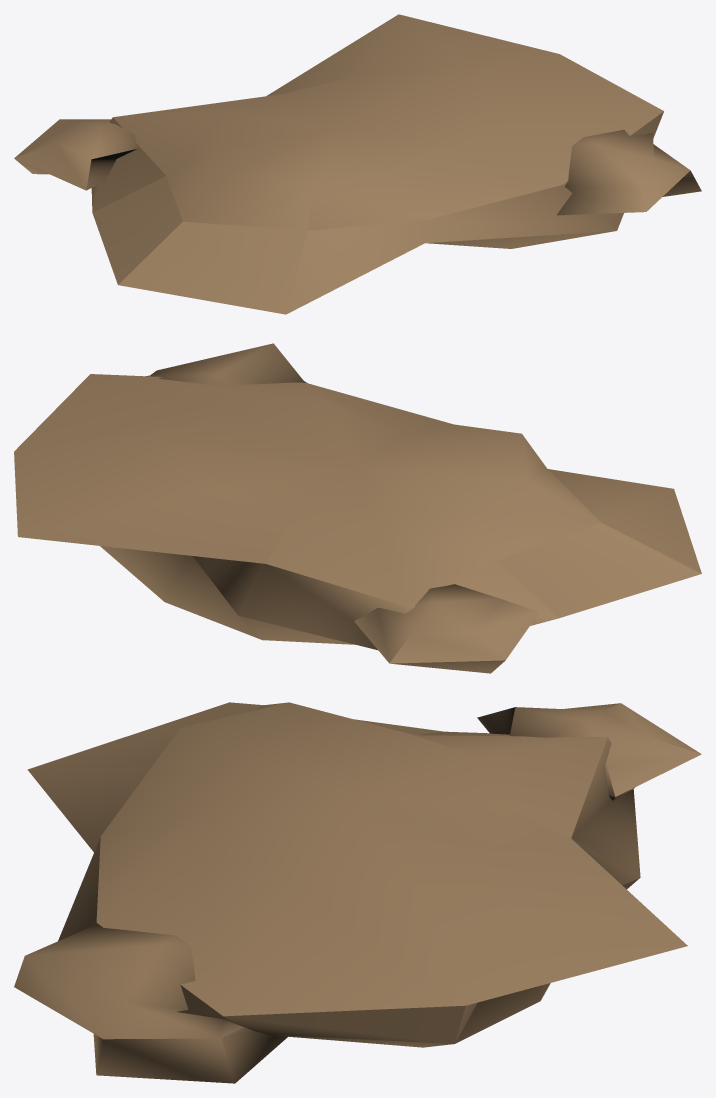
The model's file is sawdust_pile.glb.
3 views of the same model, one above another, from view 1: azimuth 30°, elevation 25°; view 2: azimuth 150°, elevation 25°; view 3: azimuth 270°, elevation 25° (orthographic). The views are drawn at different scales.
Parts seen in each view (by area): view 1: sawdust_pile; view 2: sawdust_pile; view 3: sawdust_pile.
Part boxes in pixels (x1,y1,x2,y2): sawdust_pile: (14, 14, 701, 314); sawdust_pile: (14, 343, 701, 673); sawdust_pile: (14, 702, 701, 1083).
Size of the model in its own units: 0.2622 by 0.0486 by 0.2034.
